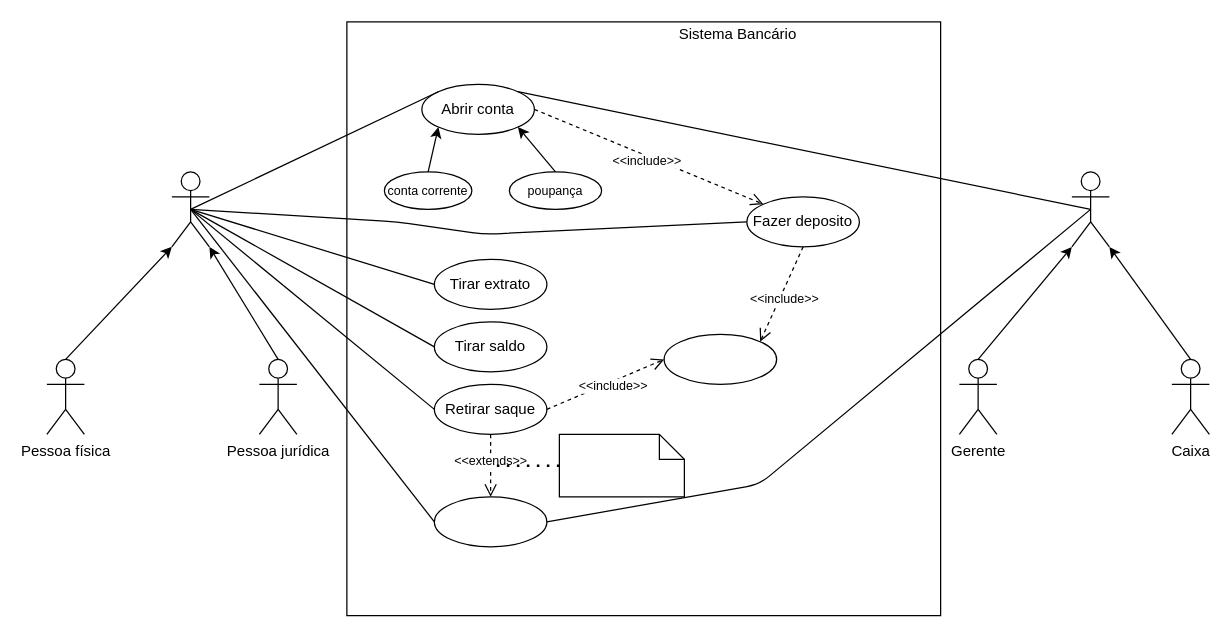
Some shapes in this 1231 by 638 pixel diagram are drawn without their labels. The shapes that lost their labels are listed below. From the top down, each one's centre as x and y in pixels, then its label:
point 190,209: Cliente
point 1090,209: Funcionario
point 720,358: Registrar transação
point 621,465: Se houver saldo
point 490,521: Encerrar conta
